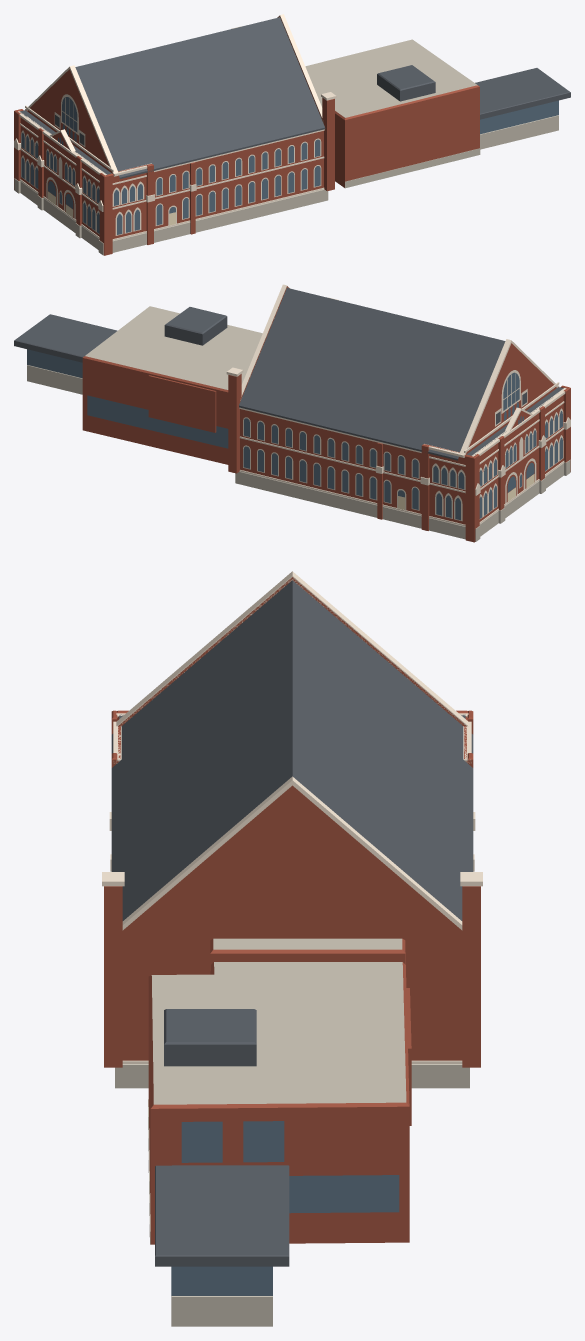
Rendered from nash-ryman-auditorium.glb.
3 renders of one model, top to bottom at view 1: azimuth 30°, elevation 25°; view 2: azimuth 150°, elevation 25°; view 3: azimuth 270°, elevation 25°, orthographic. The views are drawn at different scales.
Parts seen in each view (by area): view 1: Ryman Auditorium; view 2: Ryman Auditorium; view 3: Ryman Auditorium.
Part boxes in pixels (left/top/right/bottom): Ryman Auditorium: left=14, top=14, right=570, bottom=255; Ryman Auditorium: left=14, top=284, right=570, bottom=542; Ryman Auditorium: left=102, top=571, right=482, bottom=1326.
Size of the model in its own units: 108 by 33.07 by 37.1.
